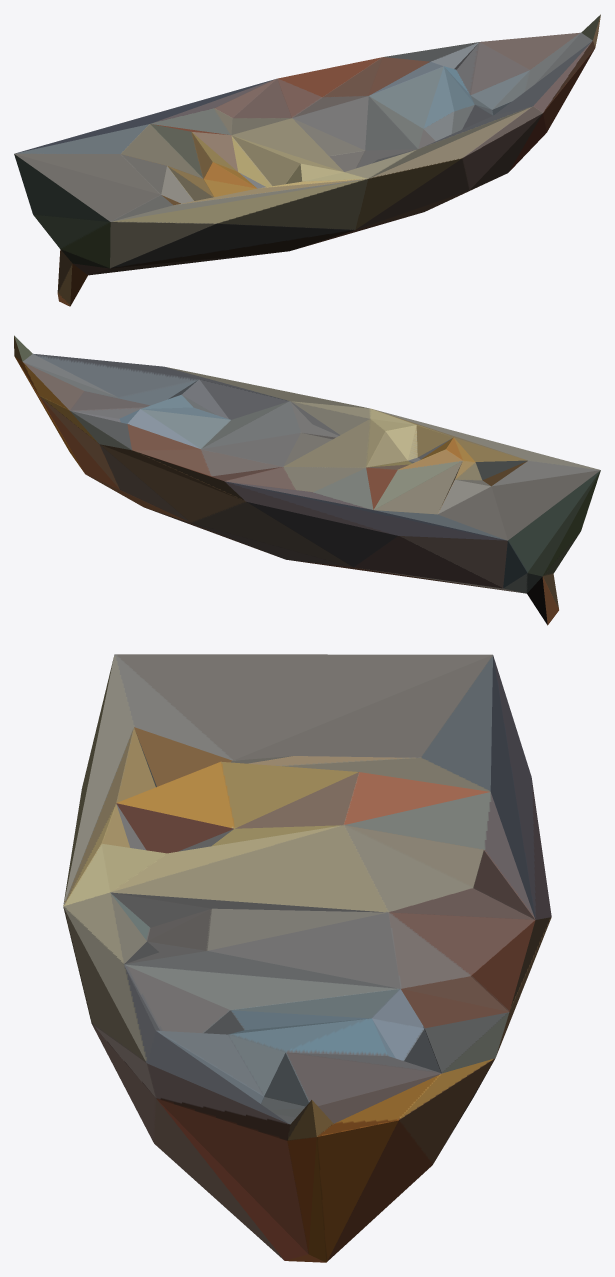
The model's file is boat.fbx.
3 renders of one model, top to bottom at view 1: azimuth 30°, elevation 25°; view 2: azimuth 150°, elevation 25°; view 3: azimuth 270°, elevation 25°, orthographic. The views are drawn at different scales.
Parts seen in each view (by area): view 1: Mesh_0; view 2: Mesh_0; view 3: Mesh_0.
Boxes of the visible parts, x1,y1,x2,y2 form: Mesh_0: (14, 14, 600, 306); Mesh_0: (14, 335, 600, 625); Mesh_0: (63, 654, 551, 1262).
Bounding box in the file's own units: 119 × 33.12 × 46.17.
1 material, 1 textured.
